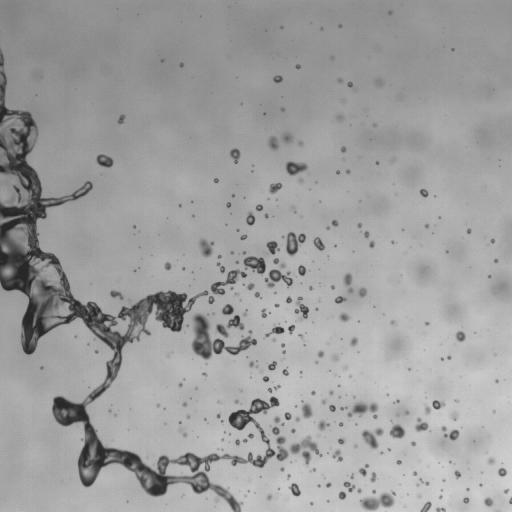droplet: (359, 489, 396, 511), (281, 232, 306, 257), (360, 427, 384, 450), (243, 256, 266, 275), (294, 296, 309, 323), (285, 161, 308, 175), (198, 238, 214, 257), (389, 420, 405, 439), (441, 425, 459, 441), (263, 240, 280, 256), (96, 154, 113, 167), (301, 400, 313, 418), (414, 417, 428, 432), (288, 482, 301, 496), (267, 136, 279, 151), (313, 236, 325, 251), (268, 182, 282, 194), (357, 463, 369, 477), (229, 148, 240, 163), (317, 419, 330, 431), (280, 132, 293, 143), (343, 481, 355, 492), (110, 290, 123, 300), (338, 312, 351, 322), (332, 448, 342, 461), (246, 211, 255, 225), (222, 304, 233, 315), (273, 415, 284, 426), (24, 153, 35, 164), (278, 171, 289, 182), (8, 173, 19, 184), (69, 180, 80, 191), (302, 239, 313, 250), (38, 240, 49, 251), (488, 244, 499, 255), (275, 247, 286, 258), (291, 253, 302, 264), (246, 268, 257, 279), (350, 278, 361, 289), (254, 279, 265, 290), (335, 284, 346, 295), (287, 286, 298, 297), (346, 292, 357, 303), (17, 293, 28, 304), (214, 294, 225, 305), (251, 299, 262, 310), (189, 304, 200, 315), (107, 305, 118, 316), (182, 312, 193, 323), (287, 312, 298, 323), (218, 313, 229, 324), (72, 316, 83, 327), (264, 317, 275, 328), (12, 323, 23, 334), (207, 328, 218, 339), (185, 329, 196, 340), (36, 335, 47, 346), (225, 336, 236, 347), (121, 342, 132, 353), (103, 347, 114, 358), (269, 349, 280, 360), (269, 369, 280, 380), (109, 379, 120, 390), (178, 387, 189, 398), (316, 387, 327, 398), (69, 393, 80, 404), (267, 405, 278, 416), (334, 409, 345, 420), (310, 410, 321, 421), (322, 410, 333, 421), (73, 420, 84, 431), (403, 423, 414, 434), (255, 444, 266, 455), (322, 454, 333, 465), (112, 461, 123, 472), (401, 461, 412, 472), (124, 469, 135, 480), (207, 472, 218, 483), (311, 472, 322, 483), (352, 474, 363, 485), (429, 479, 440, 490), (492, 494, 503, 505), (455, 330, 465, 342), (449, 410, 459, 421), (420, 501, 431, 511), (216, 261, 225, 273), (242, 282, 255, 290), (235, 438, 248, 446), (497, 467, 507, 477), (358, 287, 367, 297), (349, 336, 358, 346), (267, 361, 277, 370), (484, 497, 493, 507), (298, 265, 306, 276), (287, 324, 295, 335), (334, 296, 346, 303), (375, 78, 384, 87), (419, 188, 428, 197), (2, 64, 11, 73), (4, 100, 13, 109), (292, 155, 301, 164), (304, 236, 313, 245), (277, 239, 286, 248), (210, 245, 219, 254), (193, 246, 202, 255), (207, 253, 216, 262), (264, 261, 273, 270), (236, 262, 245, 271), (289, 269, 298, 278), (217, 272, 226, 281), (275, 279, 284, 288), (11, 288, 20, 297), (288, 301, 297, 310), (337, 302, 346, 311), (18, 304, 27, 313), (147, 311, 156, 320), (227, 325, 236, 334), (332, 361, 341, 370), (327, 395, 336, 404), (346, 399, 355, 408), (84, 404, 93, 413), (293, 407, 302, 416), (363, 409, 372, 418), (285, 419, 294, 428), (244, 422, 253, 431), (366, 423, 375, 432), (382, 423, 391, 432), (267, 432, 276, 441), (101, 439, 110, 448), (269, 440, 278, 449), (281, 441, 290, 450), (118, 442, 127, 451), (196, 449, 205, 458), (294, 452, 303, 461), (165, 483, 174, 492), (205, 488, 214, 497), (362, 489, 371, 498), (117, 114, 125, 124), (370, 471, 377, 482), (273, 75, 282, 83), (337, 437, 346, 445), (282, 366, 289, 376), (375, 505, 386, 511), (460, 505, 471, 511), (336, 114, 344, 122), (254, 291, 262, 299), (331, 353, 339, 361), (487, 457, 495, 465), (338, 491, 346, 499), (164, 262, 171, 271), (284, 412, 291, 421), (454, 470, 461, 479), (255, 204, 263, 211), (331, 219, 338, 227), (363, 230, 369, 239), (240, 233, 247, 240), (285, 296, 292, 303), (317, 350, 324, 357), (262, 375, 269, 382), (266, 493, 273, 500), (2, 56, 9, 63), (17, 104, 24, 111), (30, 113, 37, 120), (291, 135, 298, 142), (276, 138, 283, 145), (290, 139, 297, 146), (263, 144, 270, 151), (272, 148, 279, 155), (306, 163, 313, 170), (279, 164, 286, 171), (280, 167, 287, 174), (296, 170, 303, 177), (37, 173, 44, 180), (39, 179, 46, 186), (66, 187, 73, 194), (39, 191, 46, 198), (53, 191, 60, 198), (44, 206, 51, 213), (252, 210, 259, 217), (35, 217, 42, 224), (362, 238, 369, 245), (210, 250, 217, 257), (54, 251, 61, 258), (61, 265, 68, 272), (245, 266, 252, 273), (262, 270, 269, 277), (65, 273, 72, 280), (243, 276, 250, 283), (223, 283, 230, 290), (149, 287, 156, 294), (174, 287, 181, 294), (332, 290, 339, 297), (72, 292, 79, 299), (213, 293, 220, 300), (131, 297, 138, 304), (80, 298, 87, 305), (301, 298, 308, 305), (100, 306, 107, 313), (337, 319, 344, 326), (281, 322, 288, 329), (292, 327, 299, 334), (241, 330, 248, 337), (274, 332, 281, 339), (39, 334, 46, 341), (343, 336, 350, 343), (99, 341, 106, 348), (354, 342, 361, 349), (16, 344, 23, 351), (186, 345, 193, 352), (195, 354, 202, 361), (275, 364, 282, 371), (100, 368, 107, 375), (264, 369, 271, 376), (265, 380, 272, 387), (85, 387, 92, 394), (333, 387, 340, 394), (271, 390, 278, 397), (100, 391, 107, 398), (322, 391, 329, 398), (353, 397, 360, 404), (232, 404, 239, 411), (309, 404, 316, 411), (182, 406, 189, 413), (222, 412, 229, 419), (352, 412, 359, 419), (299, 416, 306, 423), (88, 417, 95, 424), (410, 419, 417, 426), (54, 422, 61, 429), (330, 422, 337, 429), (358, 424, 365, 431), (228, 425, 235, 432), (253, 430, 260, 437), (374, 434, 381, 441), (310, 435, 317, 442), (455, 435, 462, 442), (77, 441, 84, 448), (333, 442, 340, 449), (363, 442, 370, 449), (129, 446, 136, 453), (369, 447, 376, 454), (308, 449, 315, 456), (488, 450, 495, 457), (481, 454, 488, 461), (281, 458, 288, 465), (209, 460, 216, 467), (245, 461, 252, 468), (493, 462, 500, 469), (71, 463, 78, 470), (99, 466, 106, 473), (365, 467, 372, 474), (288, 476, 295, 483), (93, 477, 100, 484), (133, 479, 140, 486), (220, 481, 227, 488), (370, 481, 377, 488), (185, 484, 192, 491), (269, 487, 276, 494), (383, 487, 390, 494), (155, 494, 162, 501), (233, 494, 240, 501), (392, 495, 399, 502), (491, 497, 498, 504), (491, 501, 498, 508), (290, 205, 296, 213), (369, 240, 375, 248), (234, 399, 242, 405), (329, 404, 335, 412), (247, 432, 255, 438), (506, 467, 511, 476), (223, 506, 232, 511), (239, 506, 248, 511), (306, 506, 315, 511), (483, 506, 492, 511), (340, 146, 346, 153), (390, 320, 397, 326), (201, 372, 207, 379), (462, 497, 469, 503), (337, 77, 343, 83), (390, 157, 396, 163), (294, 416, 300, 422), (505, 505, 511, 511), (298, 140, 303, 147), (242, 309, 247, 316), (286, 473, 291, 480), (294, 64, 300, 69), (298, 177, 303, 183), (357, 222, 362, 228), (466, 228, 471, 234), (308, 285, 314, 290), (342, 365, 348, 370), (405, 366, 411, 371), (321, 398, 326, 404), (182, 401, 187, 407), (410, 440, 415, 446), (412, 470, 417, 476), (325, 482, 331, 487), (503, 488, 509, 493), (507, 490, 511, 497), (361, 507, 368, 511), (427, 507, 434, 511), (372, 122, 377, 127), (345, 169, 350, 174), (213, 178, 218, 183), (226, 202, 231, 207), (424, 223, 429, 228), (325, 225, 330, 230), (490, 238, 495, 243), (493, 258, 498, 263), (446, 354, 451, 359), (310, 390, 315, 395), (328, 390, 333, 395), (338, 421, 343, 426), (290, 428, 295, 433), (353, 443, 358, 448), (396, 460, 401, 465), (357, 488, 362, 493), (295, 59, 300, 64), (4, 71, 9, 76), (342, 80, 347, 85), (276, 81, 281, 86), (352, 81, 357, 86), (4, 88, 9, 93), (114, 114, 119, 119), (122, 117, 127, 122), (229, 144, 234, 149), (336, 144, 341, 149), (345, 146, 350, 151), (238, 147, 243, 152), (98, 149, 103, 154), (225, 149, 230, 154), (338, 151, 343, 156), (342, 151, 347, 156), (106, 152, 111, 157), (91, 156, 96, 161), (229, 156, 234, 161), (237, 156, 242, 161), (112, 159, 117, 164), (305, 161, 310, 166), (111, 162, 116, 167), (101, 165, 106, 170), (339, 168, 344, 173), (272, 179, 277, 184), (78, 181, 83, 186), (265, 184, 270, 189), (422, 184, 427, 189), (425, 186, 430, 191), (276, 188, 281, 193), (87, 189, 92, 194), (427, 192, 432, 197), (417, 193, 422, 198), (77, 196, 82, 201), (4, 202, 9, 207), (55, 204, 60, 209), (259, 209, 264, 214), (241, 217, 246, 222), (336, 218, 341, 223), (326, 220, 331, 225), (352, 223, 357, 228), (428, 223, 433, 228), (466, 223, 471, 228), (329, 224, 334, 229), (360, 226, 365, 231), (237, 231, 242, 236), (282, 231, 287, 236), (294, 231, 299, 236), (359, 232, 364, 237), (36, 234, 41, 239), (367, 235, 372, 240), (268, 236, 273, 241), (485, 237, 490, 242), (205, 238, 210, 243), (373, 242, 378, 247), (312, 246, 317, 251), (366, 246, 371, 251), (264, 247, 269, 252), (294, 251, 299, 256), (244, 252, 249, 257), (255, 253, 260, 258), (271, 253, 276, 258), (57, 256, 62, 261), (238, 258, 243, 263), (159, 263, 164, 268), (273, 264, 278, 269), (215, 265, 220, 270), (231, 265, 236, 270), (304, 265, 309, 270), (169, 266, 174, 271), (224, 267, 229, 272), (280, 269, 285, 274), (304, 270, 309, 275), (236, 273, 241, 278), (297, 274, 302, 279), (278, 278, 283, 283), (242, 285, 247, 290), (113, 286, 118, 291), (270, 286, 275, 291), (162, 287, 167, 292), (250, 288, 255, 293), (365, 289, 370, 294), (120, 290, 125, 295), (208, 290, 213, 295), (340, 292, 345, 297), (141, 293, 146, 298), (203, 294, 208, 299), (363, 294, 368, 299), (107, 295, 112, 300), (114, 295, 119, 300), (291, 296, 296, 301), (194, 297, 199, 302), (340, 300, 345, 305), (96, 302, 101, 307), (230, 302, 235, 307), (126, 303, 131, 308), (116, 306, 121, 311), (297, 310, 302, 315), (256, 311, 261, 316), (228, 313, 233, 318), (388, 315, 393, 320), (391, 315, 396, 320), (238, 317, 243, 322), (180, 322, 185, 327), (59, 323, 64, 328), (386, 323, 391, 328), (144, 324, 149, 329), (83, 325, 88, 330), (52, 326, 57, 331), (165, 326, 170, 331), (266, 327, 271, 332), (283, 327, 288, 332), (172, 330, 177, 335), (463, 330, 468, 335), (140, 331, 145, 336), (272, 332, 277, 337), (353, 332, 358, 337), (464, 333, 469, 338), (218, 334, 223, 339), (249, 334, 254, 339), (302, 334, 307, 339), (451, 335, 456, 340), (95, 337, 100, 342), (255, 337, 260, 342), (132, 338, 137, 343), (298, 339, 303, 344), (356, 339, 361, 344), (454, 339, 459, 344), (461, 339, 466, 344), (248, 343, 253, 348), (318, 345, 323, 350), (34, 346, 39, 351), (221, 348, 226, 353), (239, 349, 244, 354), (210, 351, 215, 356), (29, 352, 34, 357), (322, 352, 327, 357), (228, 353, 233, 358), (338, 354, 343, 359), (314, 355, 319, 360), (317, 356, 322, 361), (244, 359, 249, 364), (119, 363, 124, 368), (263, 365, 268, 370), (250, 366, 255, 371), (343, 370, 348, 375), (113, 377, 118, 382), (332, 392, 337, 397), (251, 394, 256, 399), (94, 396, 99, 401), (436, 396, 441, 401), (277, 397, 282, 402), (185, 398, 190, 403), (265, 398, 270, 403), (48, 400, 53, 405), (297, 402, 302, 407), (324, 402, 329, 407), (427, 402, 432, 407), (334, 404, 339, 409), (347, 406, 352, 411), (430, 407, 435, 412), (111, 408, 116, 413), (326, 409, 331, 414), (342, 409, 347, 414), (258, 410, 263, 415), (399, 410, 404, 415), (280, 416, 285, 421), (289, 416, 294, 421), (420, 417, 425, 422), (323, 418, 328, 423), (271, 421, 276, 426), (275, 422, 280, 427), (313, 422, 318, 427), (400, 423, 405, 428), (185, 428, 190, 433), (419, 429, 424, 434), (445, 429, 450, 434), (458, 429, 463, 434), (277, 431, 282, 436), (177, 432, 182, 437), (219, 432, 224, 437), (338, 433, 343, 438), (394, 436, 399, 441), (316, 444, 321, 449), (274, 448, 279, 453), (329, 449, 334, 454), (180, 450, 185, 455), (157, 451, 162, 456), (217, 451, 222, 456), (339, 452, 344, 457), (167, 454, 172, 459), (242, 454, 247, 459), (251, 454, 256, 459), (271, 454, 276, 459), (300, 456, 305, 461), (217, 458, 222, 463), (226, 458, 231, 463), (235, 461, 240, 466), (263, 462, 268, 467), (359, 463, 364, 468), (501, 463, 506, 468), (254, 465, 259, 470), (282, 470, 287, 475), (407, 470, 412, 475), (493, 470, 498, 475), (205, 471, 210, 476), (74, 472, 79, 477), (357, 472, 362, 477), (375, 472, 380, 477), (414, 474, 419, 479), (502, 474, 507, 479), (345, 476, 350, 481), (422, 476, 427, 481), (76, 479, 81, 484), (349, 479, 354, 484), (320, 482, 325, 487), (420, 482, 425, 487), (439, 482, 444, 487), (297, 484, 302, 489), (342, 487, 347, 492), (286, 488, 291, 493), (351, 488, 356, 493), (334, 490, 339, 495), (464, 491, 469, 496), (262, 492, 267, 497), (489, 494, 494, 499), (269, 498, 274, 503), (340, 498, 345, 503), (479, 499, 484, 504), (418, 503, 423, 508), (481, 503, 486, 508), (390, 240, 396, 244), (233, 292, 239, 296), (393, 399, 399, 403), (453, 399, 459, 403), (217, 400, 223, 404), (0, 147, 3, 154), (0, 171, 3, 178), (388, 10, 392, 15), (179, 62, 183, 67), (280, 107, 285, 111), (264, 213, 268, 218), (242, 251, 247, 255), (217, 254, 221, 259), (330, 285, 335, 289), (274, 303, 279, 307), (424, 321, 429, 325), (272, 337, 276, 342), (281, 350, 286, 354), (178, 382, 182, 387), (239, 388, 243, 393), (405, 410, 409, 415), (186, 414, 190, 419), (220, 437, 225, 441), (438, 494, 442, 499), (338, 24, 342, 28), (375, 161, 379, 165), (336, 170, 340, 174), (231, 193, 235, 197), (132, 224, 136, 228), (230, 250, 234, 254), (235, 260, 239, 264), (181, 266, 185, 270), (127, 298, 131, 302), (281, 343, 285, 347), (94, 349, 98, 353), (440, 357, 444, 361), (314, 360, 318, 364), (494, 379, 498, 383), (351, 395, 355, 399), (156, 403, 160, 407), (448, 460, 452, 464), (280, 467, 284, 471), (417, 494, 421, 498), (280, 25, 283, 29), (320, 26, 323, 30), (330, 56, 334, 59), (160, 59, 164, 62), (266, 197, 270, 200), (488, 274, 491, 278), (273, 291, 277, 294), (315, 307, 318, 311), (212, 311, 215, 315), (185, 324, 189, 327), (348, 374, 351, 378), (338, 395, 341, 399), (492, 409, 495, 413), (164, 422, 168, 425), (316, 434, 320, 437), (387, 448, 391, 451), (442, 478, 445, 482), (416, 483, 419, 487), (478, 483, 482, 486), (317, 484, 321, 487), (466, 487, 469, 491), (181, 493, 184, 497), (310, 501, 313, 505), (0, 284, 2, 289), (451, 48, 454, 51), (263, 112, 266, 115), (251, 164, 254, 167), (190, 200, 193, 203), (178, 204, 181, 207), (192, 214, 195, 217), (438, 216, 441, 219), (236, 228, 239, 231), (401, 228, 404, 231), (334, 244, 337, 247), (445, 250, 448, 253), (238, 298, 241, 301), (284, 320, 287, 323), (74, 335, 77, 338), (86, 342, 89, 345), (40, 366, 43, 369), (299, 370, 302, 373), (299, 375, 302, 378), (337, 384, 340, 387), (194, 387, 197, 390), (386, 393, 389, 396), (108, 409, 111, 412), (396, 413, 399, 416), (228, 432, 231, 435), (480, 471, 483, 474), (440, 488, 443, 491), (244, 494, 247, 497), (326, 499, 329, 502), (338, 20, 341, 23), (341, 23, 344, 26), (276, 25, 279, 28), (322, 25, 325, 28), (338, 27, 341, 30), (451, 44, 454, 47), (453, 48, 456, 51), (448, 49, 451, 52), (159, 56, 162, 59), (163, 59, 166, 62), (180, 59, 183, 62), (183, 63, 186, 66), (292, 63, 295, 66), (176, 64, 179, 67), (300, 64, 303, 67), (293, 67, 296, 70), (298, 67, 301, 70), (277, 72, 280, 75), (281, 75, 284, 78), (347, 86, 350, 89), (263, 109, 266, 112), (281, 111, 284, 114), (263, 114, 266, 117), (120, 122, 123, 125), (372, 160, 375, 163), (497, 160, 500, 163), (378, 161, 381, 164), (234, 163, 237, 166), (250, 166, 253, 169), (345, 166, 348, 169), (332, 170, 335, 173), (248, 171, 251, 174), (349, 171, 352, 174), (334, 173, 337, 176), (337, 173, 340, 176), (217, 176, 220, 179), (210, 177, 213, 180), (88, 178, 91, 181), (217, 180, 220, 183), (214, 182, 217, 185), (91, 185, 94, 188), (418, 186, 421, 189), (11, 187, 14, 190), (228, 193, 231, 196), (234, 193, 237, 196), (245, 195, 248, 198), (192, 198, 195, 201), (243, 198, 246, 201), (187, 199, 190, 202), (177, 200, 180, 203), (224, 200, 227, 203), (275, 200, 278, 203), (192, 201, 195, 204), (258, 201, 261, 204), (180, 203, 183, 206), (230, 203, 233, 206), (175, 204, 178, 207), (223, 204, 226, 207), (294, 207, 297, 210), (290, 210, 293, 213), (231, 211, 234, 214), (437, 212, 440, 215), (188, 213, 191, 216), (194, 213, 197, 216), (267, 213, 270, 216), (244, 214, 247, 217), (440, 214, 443, 217), (434, 215, 437, 218), (263, 217, 266, 220), (438, 218, 441, 221), (225, 220, 228, 223), (253, 220, 256, 223), (355, 220, 358, 223), (423, 221, 426, 224), (221, 223, 224, 226), (227, 223, 230, 226), (129, 224, 132, 227), (248, 224, 251, 227), (323, 224, 326, 227), (135, 225, 138, 228), (402, 225, 405, 228), (422, 226, 425, 229), (464, 227, 467, 230), (470, 229, 473, 232), (300, 230, 303, 233), (361, 230, 364, 233), (402, 230, 405, 233), (467, 233, 470, 236), (243, 238, 246, 241), (240, 239, 243, 242), (393, 239, 396, 242), (321, 240, 324, 243), (332, 241, 335, 244), (493, 241, 496, 244), (388, 242, 391, 245), (489, 242, 492, 245), (392, 243, 395, 246), (332, 246, 335, 249), (230, 247, 233, 250), (447, 248, 450, 251), (321, 249, 324, 252), (227, 250, 230, 253), (233, 250, 236, 253), (239, 250, 242, 253), (219, 251, 222, 254), (444, 252, 447, 255), (328, 256, 331, 259), (491, 257, 494, 260), (497, 258, 500, 261), (491, 261, 494, 264), (213, 262, 216, 265), (220, 262, 223, 265), (494, 262, 497, 265), (170, 263, 173, 266), (296, 263, 299, 266), (302, 263, 305, 266), (178, 266, 181, 269), (184, 267, 187, 270), (136, 268, 139, 271), (192, 268, 195, 271), (180, 269, 183, 272), (132, 271, 135, 274), (487, 271, 490, 274), (190, 273, 193, 276), (484, 274, 487, 277), (490, 274, 493, 277), (487, 277, 490, 280), (330, 281, 333, 284), (290, 283, 293, 286), (333, 283, 336, 286), (311, 284, 314, 287), (305, 286, 308, 289), (328, 287, 331, 290), (200, 289, 203, 292), (310, 289, 313, 292), (259, 293, 262, 296), (298, 293, 301, 296), (256, 296, 259, 299), (283, 297, 286, 300), (274, 300, 277, 303), (212, 301, 215, 304), (337, 302, 340, 305), (373, 302, 376, 305), (315, 304, 318, 307), (369, 304, 372, 307), (259, 306, 262, 309), (274, 306, 277, 309), (372, 307, 375, 310), (246, 310, 249, 313), (264, 310, 267, 313), (306, 311, 309, 314), (262, 317, 265, 320), (355, 317, 358, 320), (425, 318, 428, 321), (359, 319, 362, 322), (387, 319, 390, 322), (422, 322, 425, 325), (287, 323, 290, 326), (426, 324, 429, 327), (301, 331, 304, 334), (70, 334, 73, 337), (339, 334, 342, 337), (76, 335, 79, 338), (304, 341, 307, 344), (300, 344, 303, 347), (282, 346, 285, 349), (285, 349, 288, 352), (93, 352, 96, 355), (169, 353, 172, 356), (281, 353, 284, 356), (443, 356, 446, 359), (450, 356, 453, 359), (437, 357, 440, 360), (273, 358, 276, 361), (269, 360, 272, 363), (38, 363, 41, 366), (314, 363, 317, 366), (36, 366, 39, 369), (328, 366, 331, 369), (42, 367, 45, 370), (299, 367, 302, 370), (286, 368, 289, 371), (404, 368, 407, 371), (202, 369, 205, 372), (409, 369, 412, 372), (328, 371, 331, 374), (297, 372, 300, 375), (300, 372, 303, 375), (337, 372, 340, 375), (250, 373, 253, 376), (246, 374, 249, 377), (282, 374, 285, 377), (286, 374, 289, 377), (335, 375, 338, 378), (205, 376, 208, 379), (350, 376, 353, 379), (493, 376, 496, 379), (497, 377, 500, 380), (260, 379, 263, 382), (181, 380, 184, 383), (336, 381, 339, 384), (175, 382, 178, 385), (279, 382, 282, 385), (494, 382, 497, 385), (273, 383, 276, 386), (336, 386, 339, 389), (276, 387, 279, 390), (309, 388, 312, 391), (313, 388, 316, 391), (387, 390, 390, 393), (352, 391, 355, 394), (314, 392, 317, 395), (311, 394, 314, 397), (341, 394, 344, 397), (384, 395, 387, 398), (453, 395, 456, 398), (191, 396, 194, 399), (299, 396, 302, 399), (396, 396, 399, 399), (393, 398, 396, 401), (399, 399, 402, 402), (156, 400, 159, 403), (389, 400, 392, 403), (179, 401, 182, 404), (453, 401, 456, 404), (153, 404, 156, 407), (341, 404, 344, 407), (108, 405, 111, 408), (159, 405, 162, 408), (163, 409, 166, 412), (285, 409, 288, 412), (408, 409, 411, 412), (216, 410, 219, 413), (495, 410, 498, 413), (213, 413, 216, 416), (376, 415, 379, 418), (348, 416, 351, 419), (200, 417, 203, 420), (206, 417, 209, 420), (175, 420, 178, 423), (181, 420, 184, 423), (203, 420, 206, 423), (336, 420, 339, 423), (342, 422, 345, 425), (178, 423, 181, 426), (340, 425, 343, 428), (438, 426, 441, 429), (426, 427, 429, 430), (294, 430, 297, 433), (246, 436, 249, 439), (232, 438, 235, 441), (232, 442, 235, 445), (408, 442, 411, 445), (415, 442, 418, 445), (388, 445, 391, 448), (410, 445, 413, 448), (354, 447, 357, 450), (390, 448, 393, 451), (385, 449, 388, 452), (318, 450, 321, 453), (381, 453, 384, 456), (319, 456, 322, 459), (398, 457, 401, 460), (448, 457, 451, 460), (451, 459, 454, 462), (337, 460, 340, 463), (364, 460, 367, 463), (445, 460, 448, 463), (395, 463, 398, 466), (398, 463, 401, 466), (437, 463, 440, 466), (277, 468, 280, 471), (315, 468, 318, 471), (415, 469, 418, 472), (312, 471, 315, 474), (348, 472, 351, 475), (452, 474, 455, 477), (401, 475, 404, 478), (442, 475, 445, 478), (256, 476, 259, 479), (458, 476, 461, 479), (417, 480, 420, 483), (444, 480, 447, 483), (479, 480, 482, 483), (295, 481, 298, 484), (315, 481, 318, 484), (428, 482, 431, 485), (465, 484, 468, 487), (481, 484, 484, 487), (328, 485, 331, 488), (425, 485, 428, 488), (477, 485, 480, 488), (315, 486, 318, 489), (503, 486, 506, 489), (274, 488, 277, 491), (442, 488, 445, 491), (468, 488, 471, 491), (249, 489, 252, 492), (278, 489, 281, 492), (394, 490, 397, 493), (245, 491, 248, 494), (440, 491, 443, 494), (436, 493, 439, 496), (325, 496, 328, 499), (441, 496, 444, 499), (460, 496, 463, 499), (309, 498, 312, 501), (468, 498, 471, 501), (312, 500, 315, 503), (323, 500, 326, 503), (461, 501, 464, 504), (307, 503, 310, 506), (327, 254, 329, 258), (240, 102, 242, 105), (433, 195, 436, 197), (243, 196, 245, 199), (275, 198, 278, 200), (318, 200, 321, 202), (225, 223, 227, 226), (133, 269, 136, 271), (473, 331, 476, 333), (357, 350, 359, 353), (328, 369, 331, 371), (249, 376, 252, 378), (425, 396, 427, 399), (294, 405, 297, 407), (114, 413, 116, 416), (355, 422, 357, 425), (259, 475, 261, 478), (509, 503, 511, 506), (445, 509, 448, 511), (251, 170, 253, 172), (315, 181, 317, 183), (359, 200, 361, 202), (352, 250, 354, 252), (312, 260, 314, 262), (191, 271, 193, 273), (300, 282, 302, 284), (373, 305, 375, 307), (382, 313, 384, 315), (312, 321, 314, 323), (357, 320, 359, 322), (183, 378, 185, 380), (88, 386, 90, 388), (163, 407, 165, 409), (473, 440, 475, 442), (329, 447, 331, 449), (290, 461, 292, 463), (247, 490, 249, 492), (406, 493, 408, 495), (126, 500, 128, 502), (309, 188, 310, 190), (432, 232, 433, 234), (340, 338, 342, 339), (190, 397, 191, 399), (461, 426, 462, 428), (224, 431, 225, 433), (429, 430, 431, 431), (327, 452, 328, 454), (438, 462, 439, 463), (454, 463, 455, 464)
ligament: (340, 401, 378, 421), (263, 322, 285, 339), (424, 400, 445, 415), (343, 272, 353, 293), (248, 360, 264, 373), (177, 421, 187, 437), (266, 384, 281, 393), (216, 411, 225, 423), (347, 81, 356, 91), (419, 478, 429, 485), (276, 487, 281, 498), (308, 467, 316, 472), (350, 473, 354, 480), (333, 373, 339, 377), (204, 417, 208, 423), (217, 448, 223, 451), (379, 451, 385, 454), (509, 496, 511, 504), (493, 509, 501, 511), (318, 297, 320, 302), (318, 282, 320, 286), (325, 342, 329, 344), (246, 356, 248, 357)
